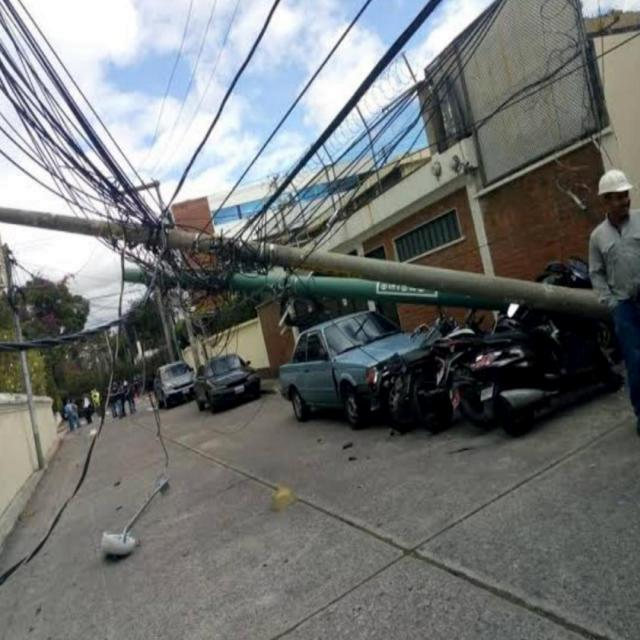Broken Pole: (0, 206, 604, 315), (116, 261, 503, 312)
